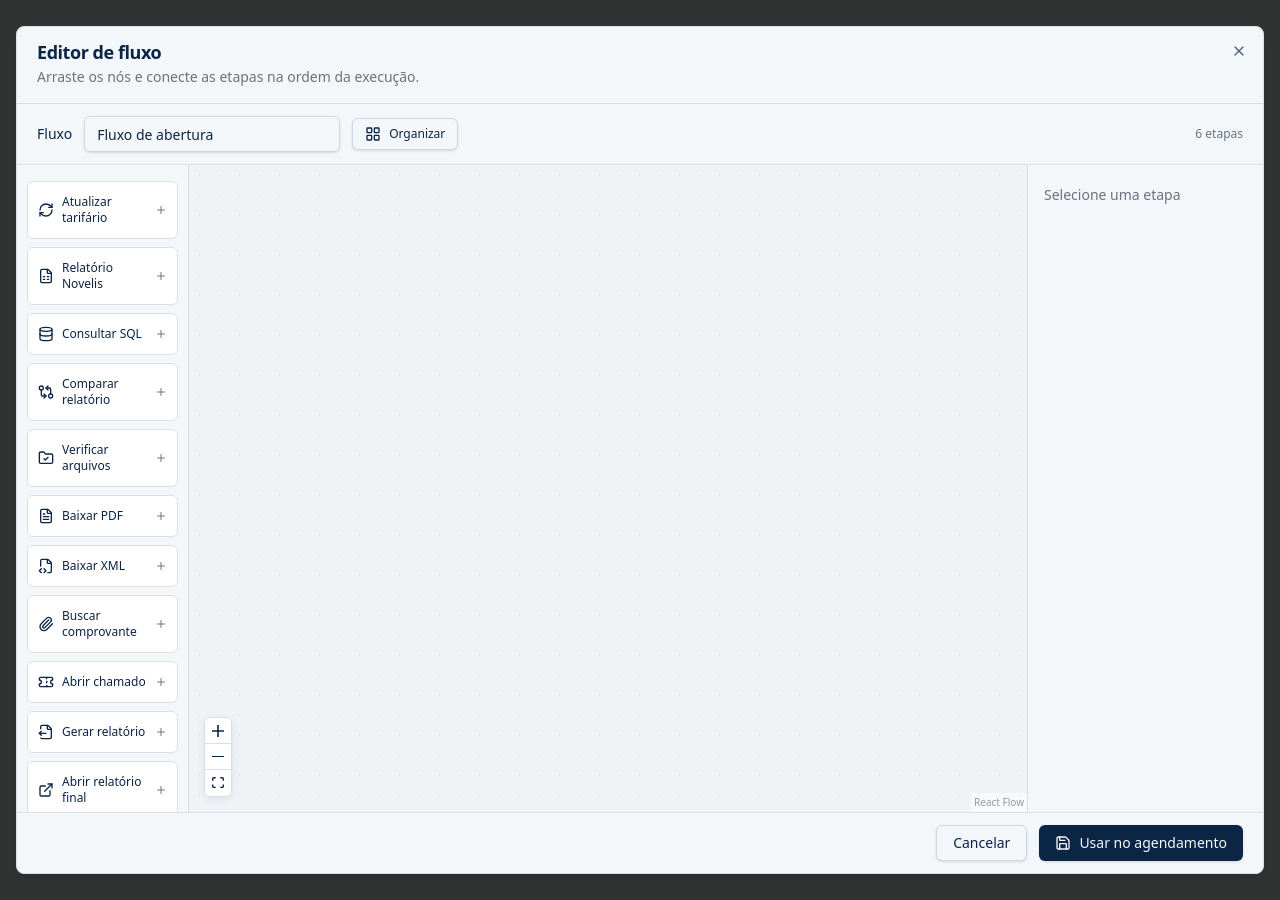
Visual schedule editor › adiciona e salva a etapa Atualizar tarifário
This screenshot has width=1280, height=900.
Later steps or results of the test are not shown.
Click the button "Atualizar tarifário". click: (102, 210)
box: x1=27 y1=181 x2=178 y2=239
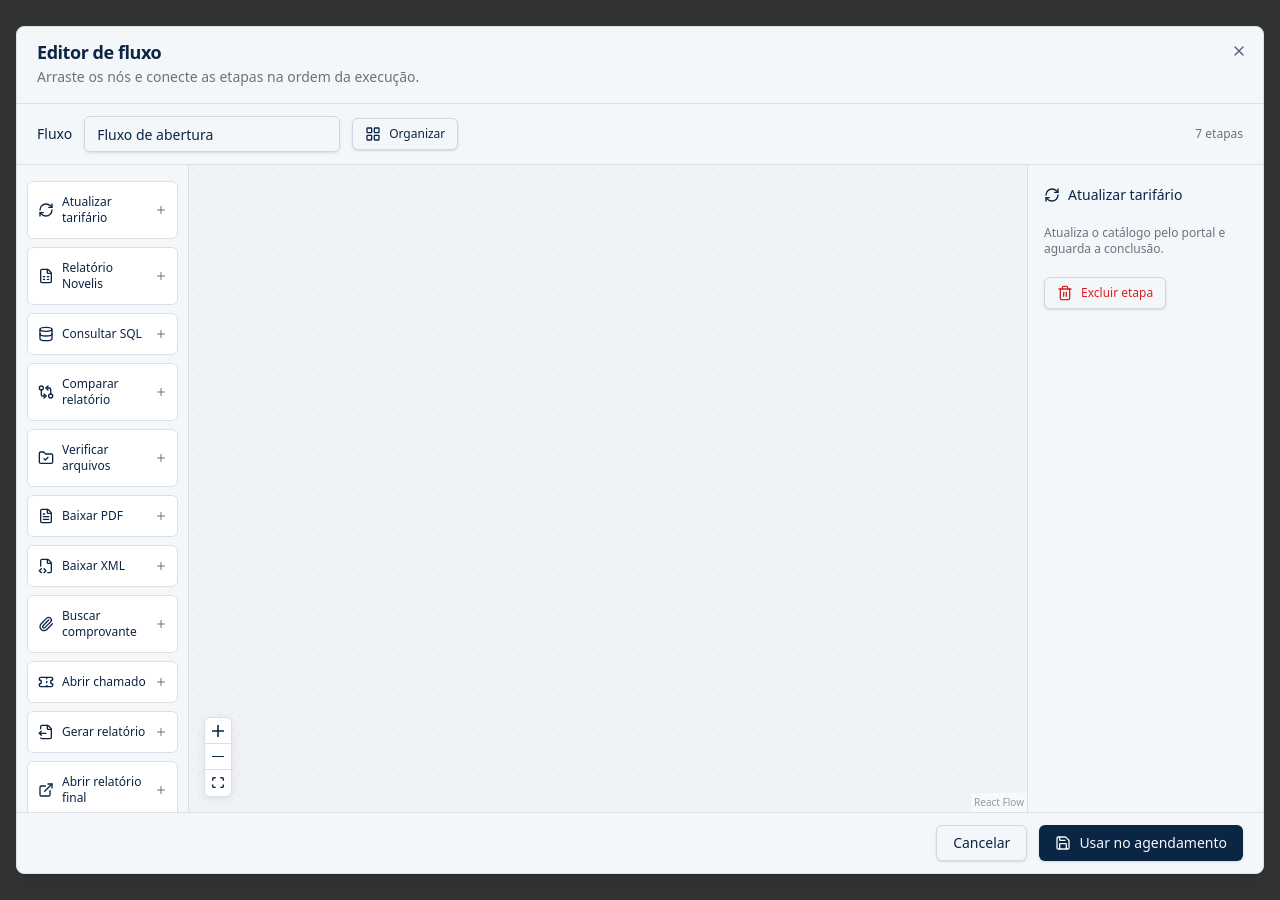
Expected: the text "Atualiza o catálogo pelo portal e aguarda a conclusão." is shown, x1=1044 y1=225 x2=1247 y2=257
